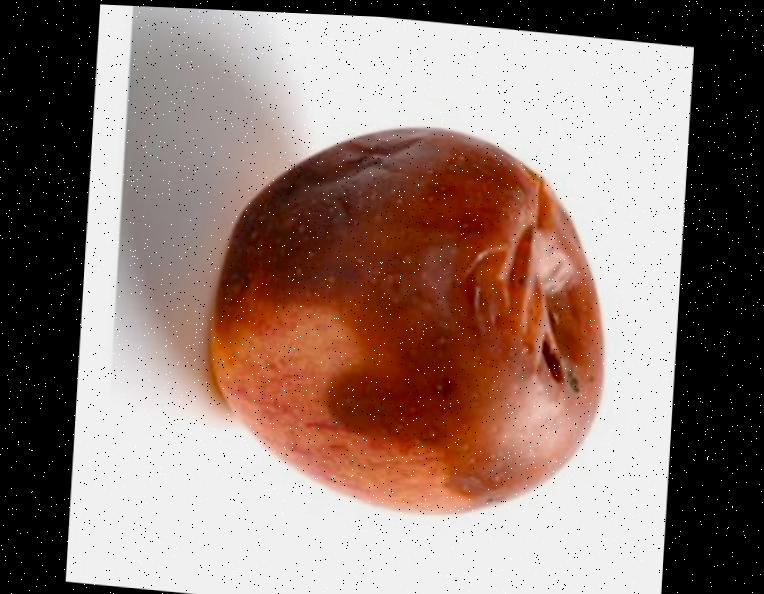ROT: (185, 81, 642, 558)
